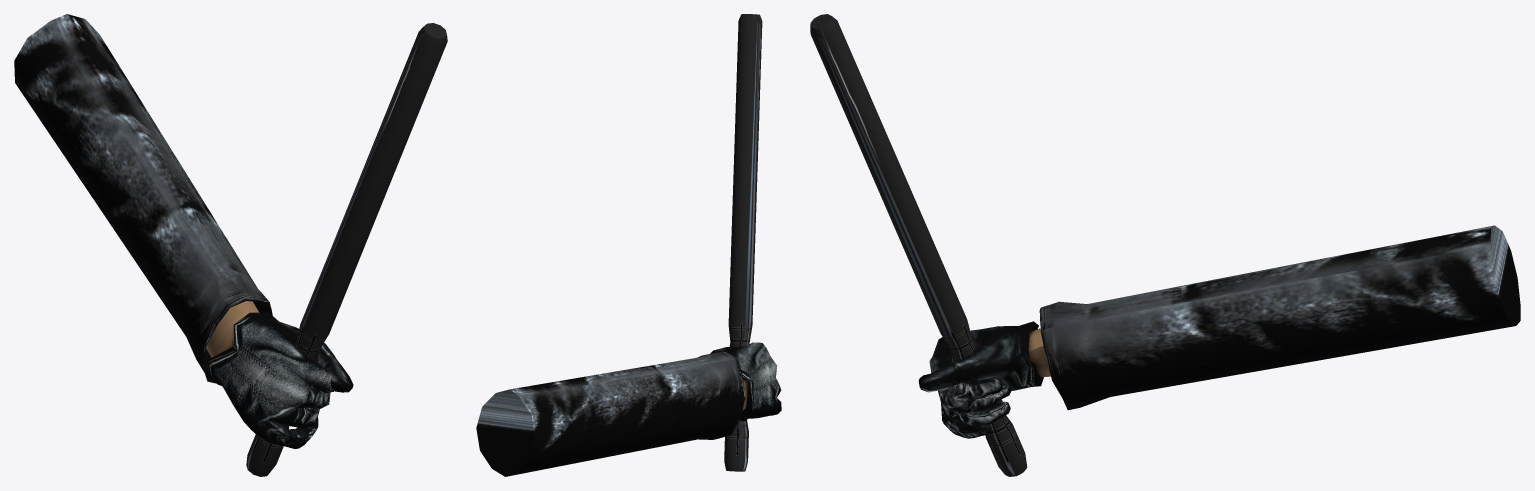
Rendered from nightstick.FBX.
3 views of the same model, side by side, from view 1: azimuth 30°, elevation 25°; view 2: azimuth 150°, elevation 25°; view 3: azimuth 270°, elevation 25° (orthographic). The views are drawn at different scales.
Parts seen in each view (by area): view 1: nightstick; view 2: nightstick; view 3: nightstick.
Boxes of the visible parts, bbox=[...] form: nightstick: bbox=[14, 14, 447, 476]; nightstick: bbox=[476, 14, 781, 476]; nightstick: bbox=[810, 14, 1520, 476].
Size of the model in its own units: 5.51 by 26.82 by 20.58.
2 materials, 2 textured.
